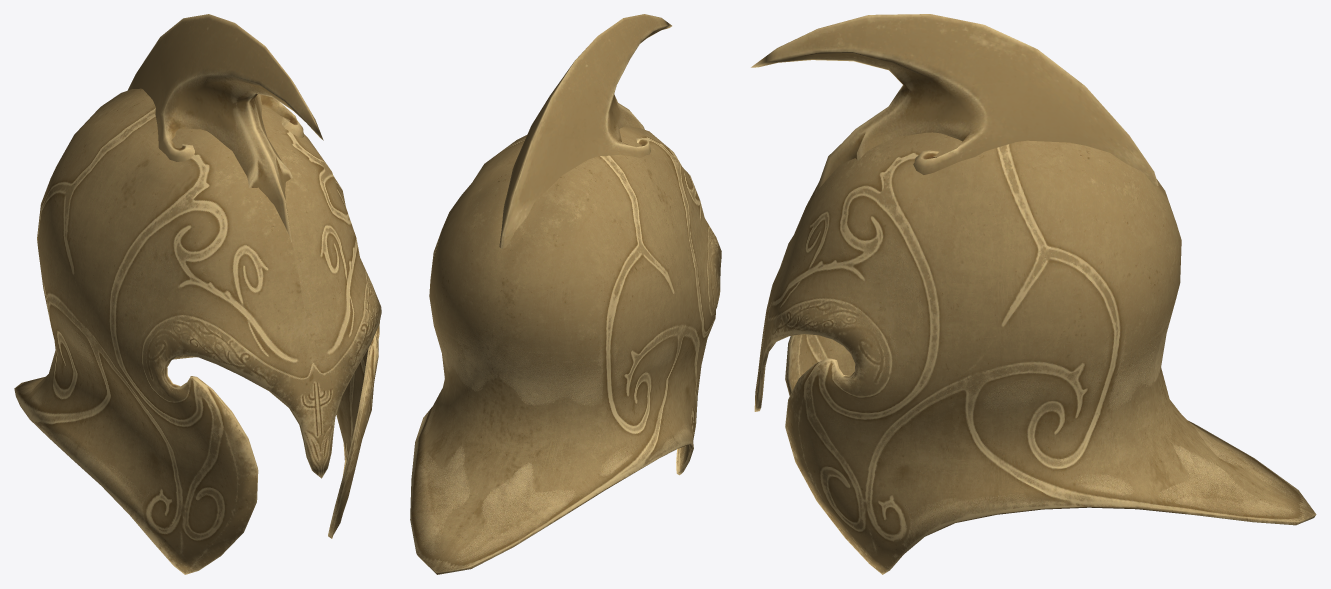
File: rivendell_helmet_infantry_tier2.fbx
3 renders of one model, left to right at view 1: azimuth 30°, elevation 25°; view 2: azimuth 150°, elevation 25°; view 3: azimuth 270°, elevation 25°, orthographic. The views are drawn at different scales.
Visible parts, largest first — view 1: rivendell_helmet_infantry_tier2.0, rivendell_helmet_infantry_tier2.1; view 2: rivendell_helmet_infantry_tier2.0, rivendell_helmet_infantry_tier2.1; view 3: rivendell_helmet_infantry_tier2.0, rivendell_helmet_infantry_tier2.1.
Boxes of the visible parts, x1,y1,x2,y2 form: rivendell_helmet_infantry_tier2.0: (14, 88, 381, 574); rivendell_helmet_infantry_tier2.1: (127, 14, 323, 242); rivendell_helmet_infantry_tier2.0: (410, 125, 721, 574); rivendell_helmet_infantry_tier2.1: (499, 14, 671, 248); rivendell_helmet_infantry_tier2.0: (754, 132, 1316, 574); rivendell_helmet_infantry_tier2.1: (751, 14, 1158, 193).
Size of the model in its own units: 0.2002 by 0.3681 by 0.3765.
2 materials, 2 textured.
